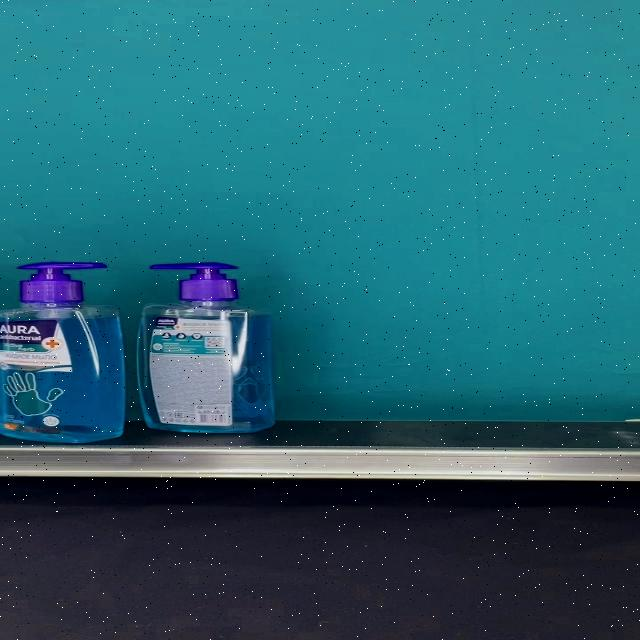Bottle: (134, 263, 274, 433), (0, 262, 126, 443)
Cap: (17, 262, 108, 302), (149, 263, 240, 303)
